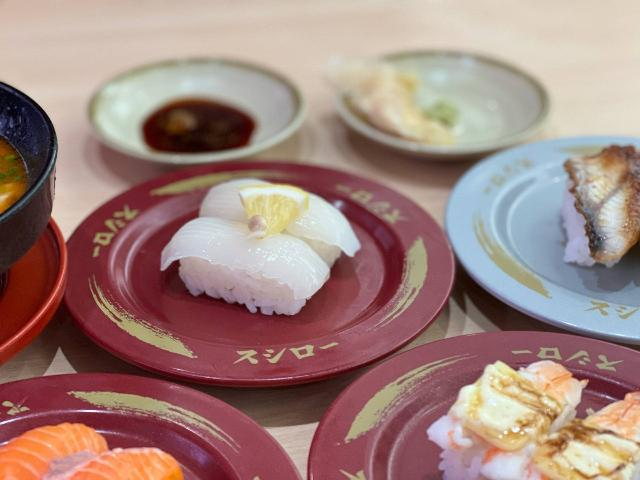janred: (51, 175, 426, 355), (11, 356, 304, 480), (323, 366, 640, 480), (0, 227, 74, 357)
janwhite: (464, 142, 640, 334)
